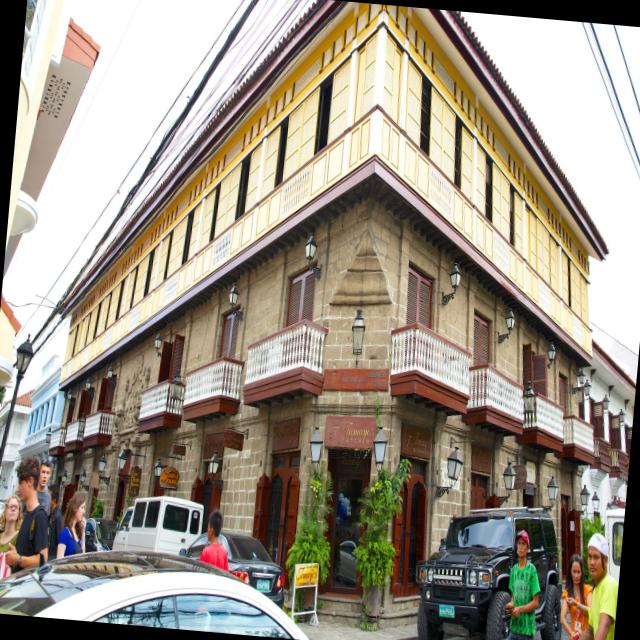Casa Manila: (56, 0, 637, 637)
